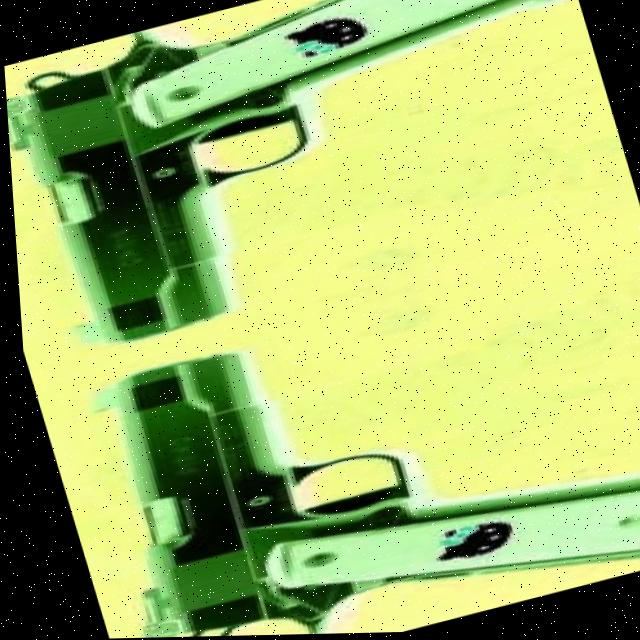pistol: (0, 0, 640, 358), (68, 241, 640, 639)
